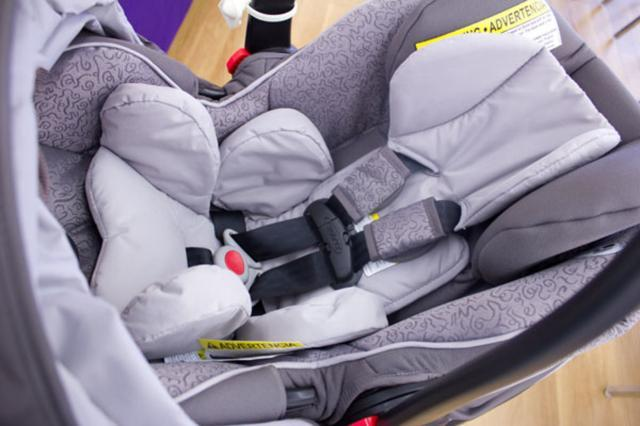Seatbelt: (181, 144, 463, 320), (246, 0, 298, 56)
